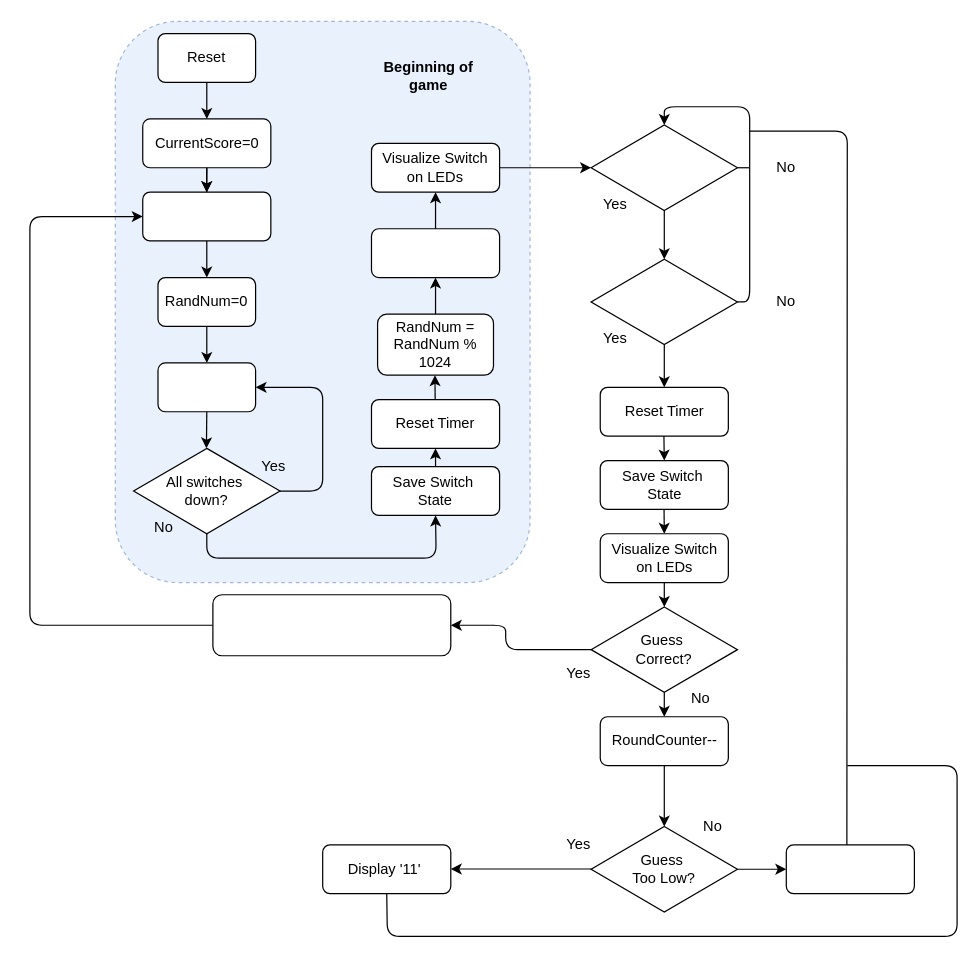
The diagram is 980 pixels wide and 959 high, and some of its shapes have lost their labels. The shapes that lost their labels are listed below. From the top down, each one's box as (x1, y1, x2, y2) in pixels, then its label:
(590, 124, 737, 210): Switches Changed?
(142, 191, 271, 241): Show CurrentScore
(370, 228, 500, 278): RoundCounter=20
(590, 258, 737, 345): Timer waited .1s?
(157, 362, 256, 412): RandNum++
(212, 594, 451, 656): CurrentScore += RoundCounter
(785, 844, 914, 894): Display '99'
